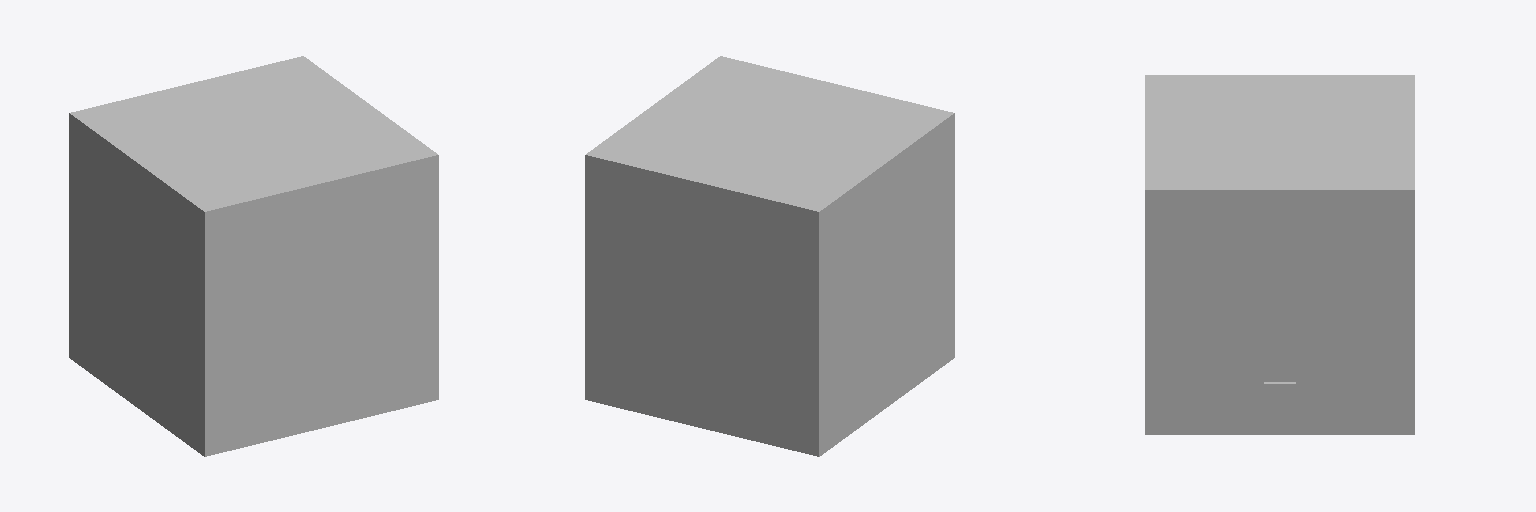
The model's file is bomb-omb.obj.
3 renders of one model, left to right at view 1: azimuth 30°, elevation 25°; view 2: azimuth 150°, elevation 25°; view 3: azimuth 270°, elevation 25°, orthographic.
Visible parts, largest first — view 1: Walls, Ceil, Marble_Column_Left, Marble_Column_Right, Stage; view 2: Walls, Ceil, Marble_Column_Right, Marble_Column_Left, Stage; view 3: Walls, Ceil, Door.
Part boxes in pixels (bbox=[...]): Walls: bbox=[69, 56, 438, 456]; Ceil: bbox=[69, 169, 438, 308]; Marble_Column_Left: bbox=[183, 277, 243, 452]; Marble_Column_Right: bbox=[69, 191, 91, 369]; Stage: bbox=[103, 364, 170, 427]; Walls: bbox=[585, 56, 954, 456]; Ceil: bbox=[585, 168, 954, 313]; Marble_Column_Right: bbox=[780, 276, 841, 452]; Marble_Column_Left: bbox=[932, 191, 954, 369]; Stage: bbox=[853, 369, 915, 427]; Walls: bbox=[1145, 75, 1414, 434]; Ceil: bbox=[1145, 243, 1414, 291]; Door: bbox=[1264, 382, 1295, 432].
Bounding box in the file's own units: 6.1 × 6 × 6.